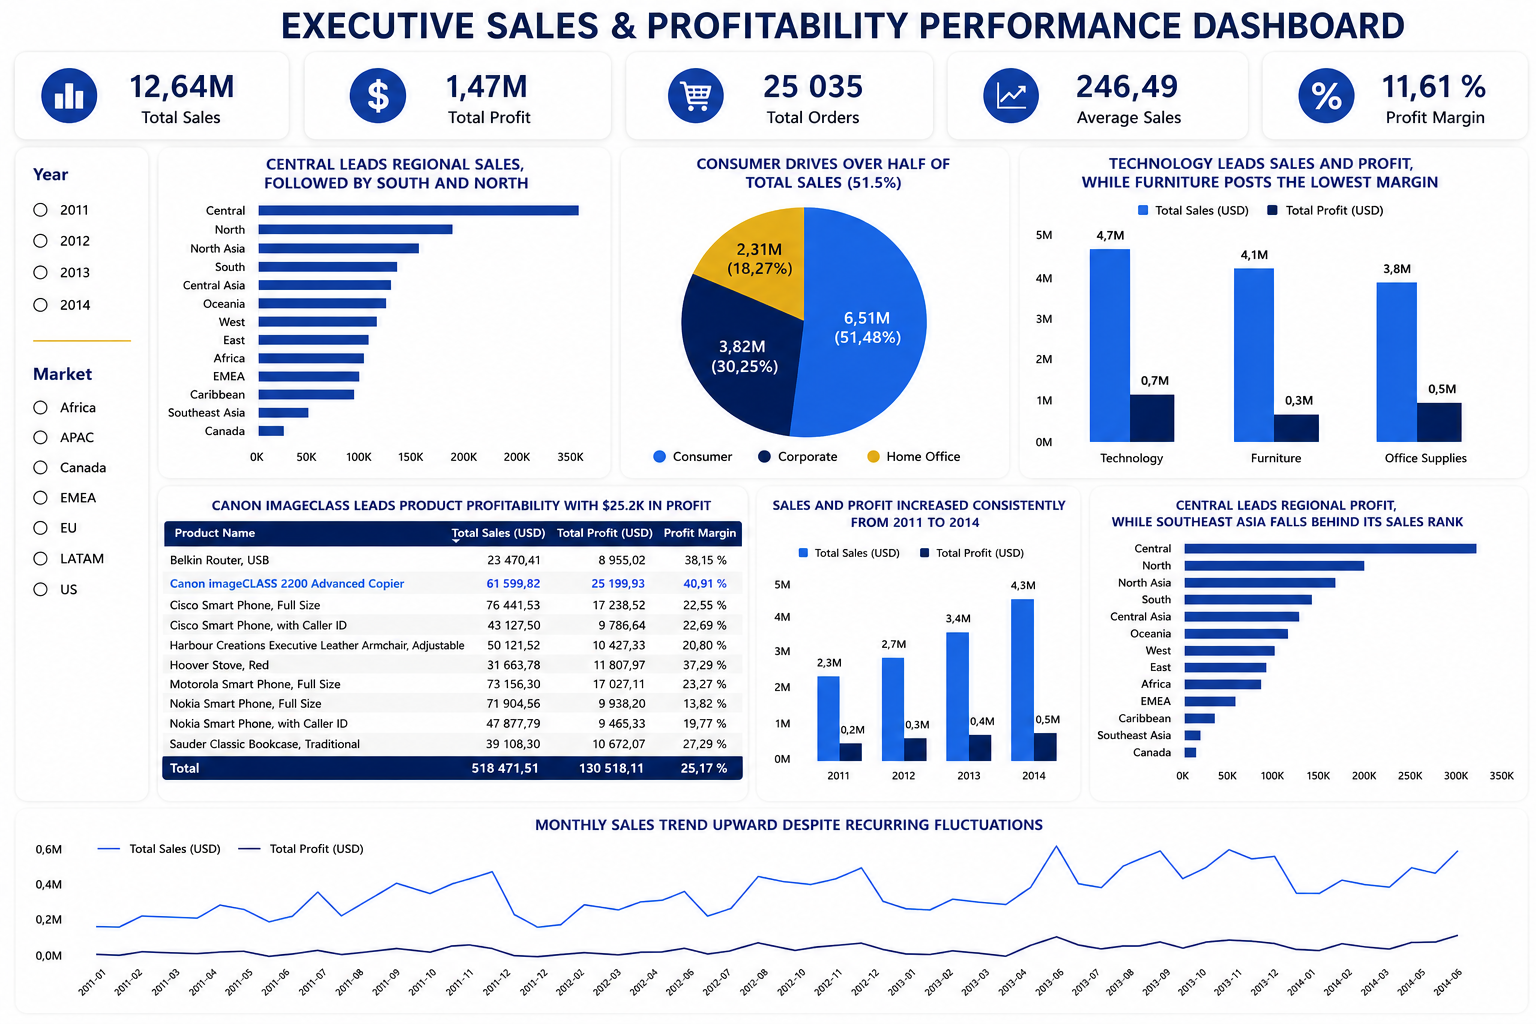

What the dashboard file says about the page in this screenshot:
{"tool":"powerbi","page":{"name":"Dashboard overview","canvas":[1280,720],"ordinal":0},"visuals":[{"type":"cardVisual","fields":{"Data":["Fact_Sales.Total Sales"]},"box":[101,38,165.4,90.7],"z":0},{"type":"cardVisual","fields":{"Data":["Fact_Sales.Total Profit"]},"box":[339.5,39.1,165.4,90.7],"z":1000},{"type":"cardVisual","fields":{"Data":["Fact_Sales.Total Orders"]},"box":[578,40.2,165.4,90.7],"z":2000},{"type":"cardVisual","fields":{"Data":["Fact_Sales.Average Sales"]},"box":[816.6,41.3,163.9,90.7],"z":3000},{"type":"cardVisual","fields":{"Data":["Fact_Sales.Profit Margin"]},"box":[1053.7,42.4,165.4,90.7],"z":4000},{"type":"clusteredBarChart","title":"Central leads regional sales, followed by South and North","fields":{"Category":["Fact_Sales.Region"],"Y":["Fact_Sales.Total Sales"]},"box":[87.8,131.7,343.9,182.9],"z":5000},{"type":"clusteredBarChart","title":"Central leads regional profit, while Southeast Asia falls behind its sales ranking","fields":{"Category":["Fact_Sales.Region"],"Y":["Fact_Sales.Total Profit"]},"box":[920.5,336.6,348.3,181.5],"z":6000},{"type":"pieChart","title":"Consumer drives over half of total sales (51.5%)","fields":{"Category":["Fact_Sales.Segment"],"Y":["Fact_Sales.Total Sales"]},"box":[458,133.2,386.3,181.5],"z":7000},{"type":"clusteredColumnChart","title":"Technology leads sales and profit, while Furniture posts the lowest margin","fields":{"Category":["Fact_Sales.Category"],"Y":["Fact_Sales.Total Sales","Fact_Sales.Total Profit"]},"box":[870.2,128.8,409.8,184.4],"z":8000},{"type":"tableEx","title":"Canon imageCLASS leads product profitability with $25.2K in profit","fields":{"Values":["Fact_Sales.Product Name","Fact_Sales.Total Sales","Fact_Sales.Total Profit","Fact_Sales.Profit Margin"]},"box":[87.8,335.1,462.4,232.7],"z":9000},{"type":"lineChart","title":"Monthly sales trend upward despite recurring fluctuations","fields":{"Category":["Dim_Date.Year-Month"],"Y":["Fact_Sales.Total Sales","Fact_Sales.Total Profit"]},"box":[87.8,567.8,1181,152.2],"z":10000},{"type":"clusteredColumnChart","title":"Sales and profit increased consistently from 2011 to 2014","fields":{"Category":["Dim_Date.Year"],"Y":["Fact_Sales.Total Sales","Fact_Sales.Total Profit"]},"box":[564.9,335.1,355.6,182.9],"z":11000},{"type":"listSlicer","fields":{"Values":["Dim_Date.Year"]},"box":[11.7,11.7,89.3,155.1],"z":12000},{"type":"listSlicer","fields":{"Values":["Fact_Sales.Market"]},"box":[0,166.8,101,241.5],"z":13000},{"type":"textbox","box":[316.1,5.9,763.9,42.4],"z":14000}]}

Visuals, with their boxes on the page's 1280x720 design canvas (x1, y1, x2, y2). These are canvas units, not pixel positions in the 1536x1024 screenshot, which may show the page scaled, cropped or inside an application window:
cardVisual - Fact_Sales.Total Sales: 101,38,266,129
cardVisual - Fact_Sales.Total Profit: 340,39,505,130
cardVisual - Fact_Sales.Total Orders: 578,40,743,131
cardVisual - Fact_Sales.Average Sales: 817,41,980,132
cardVisual - Fact_Sales.Profit Margin: 1054,42,1219,133
"Central leads regional sales, followed by South and North" clusteredBarChart: 88,132,432,315
"Central leads regional profit, while Southeast Asia falls behind its sales ranking" clusteredBarChart: 920,337,1269,518
"Consumer drives over half of total sales (51.5%)" pieChart: 458,133,844,315
"Technology leads sales and profit, while Furniture posts the lowest margin" clusteredColumnChart: 870,129,1280,313
"Canon imageCLASS leads product profitability with $25.2K in profit" tableEx: 88,335,550,568
"Monthly sales trend upward despite recurring fluctuations" lineChart: 88,568,1269,720
"Sales and profit increased consistently from 2011 to 2014" clusteredColumnChart: 565,335,920,518
listSlicer - Dim_Date.Year: 12,12,101,167
listSlicer - Fact_Sales.Market: 0,167,101,408
textbox: 316,6,1080,48
